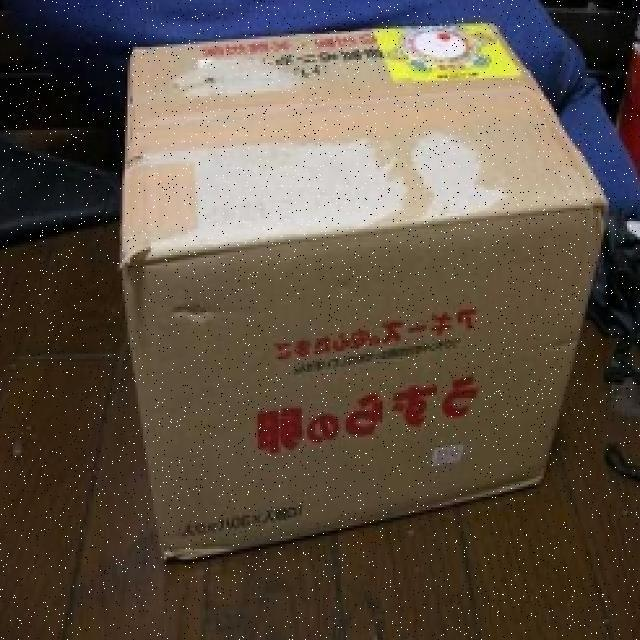box: (100, 7, 600, 596)
